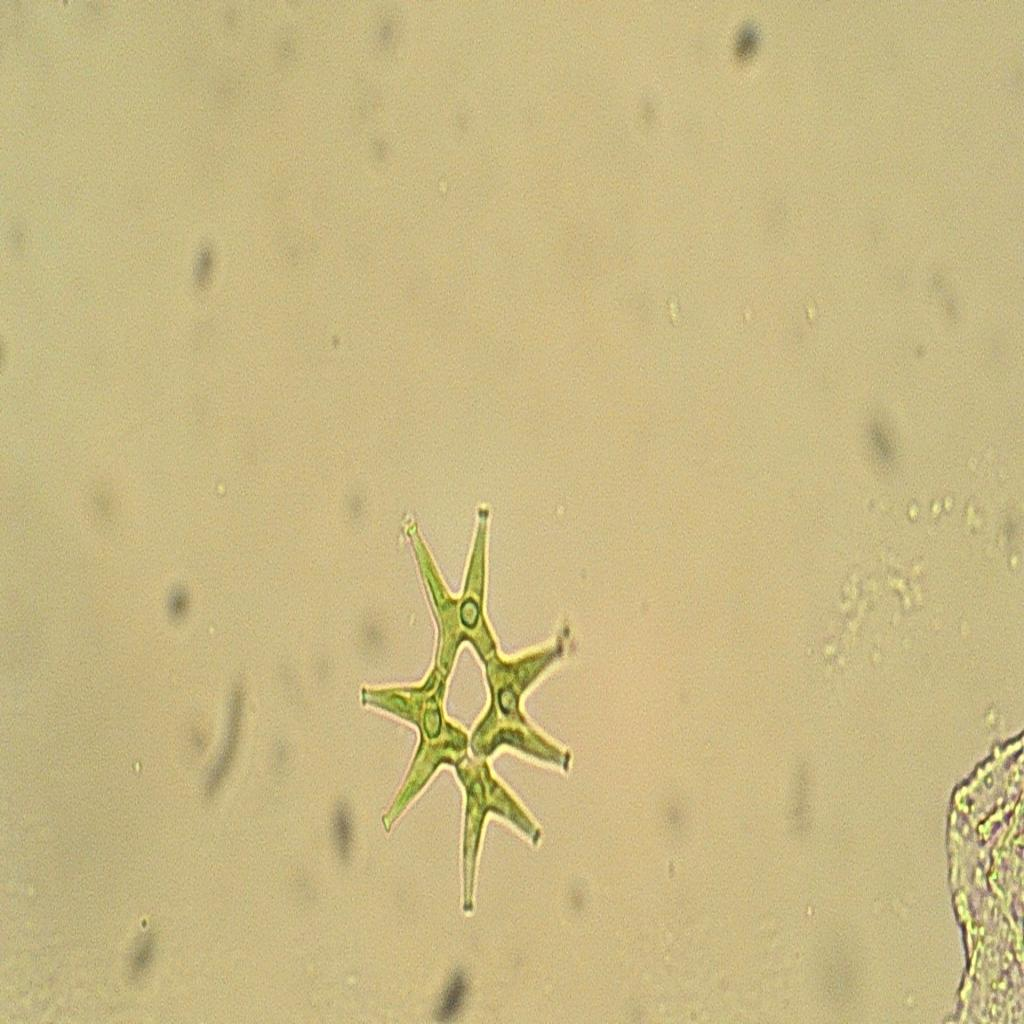Pediastrum_75FI: (341, 473, 596, 942)
